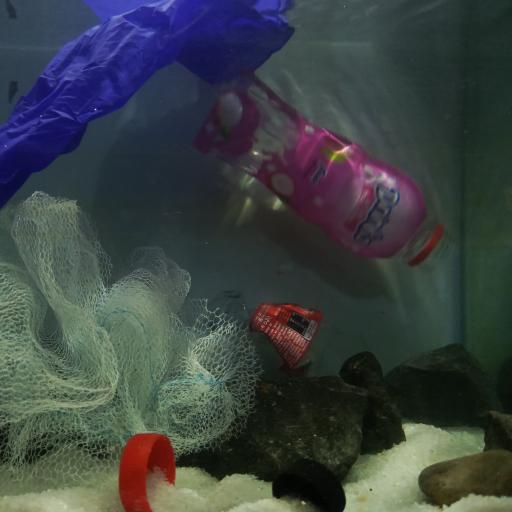bottle_cap: (120, 431, 177, 512), (272, 456, 346, 512)
glove: (1, 0, 298, 210)
net: (0, 191, 266, 490)
plastic_bottle: (184, 69, 456, 272), (212, 287, 353, 373)
